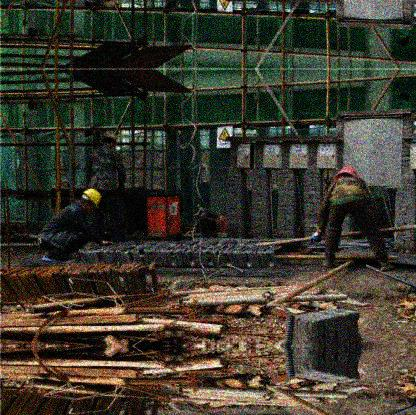helmet: (79, 188, 102, 213), (101, 131, 118, 148)
